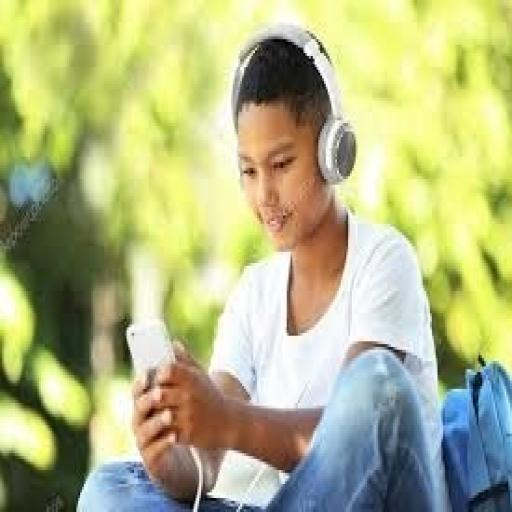listening_to_music: (74, 22, 452, 510)
